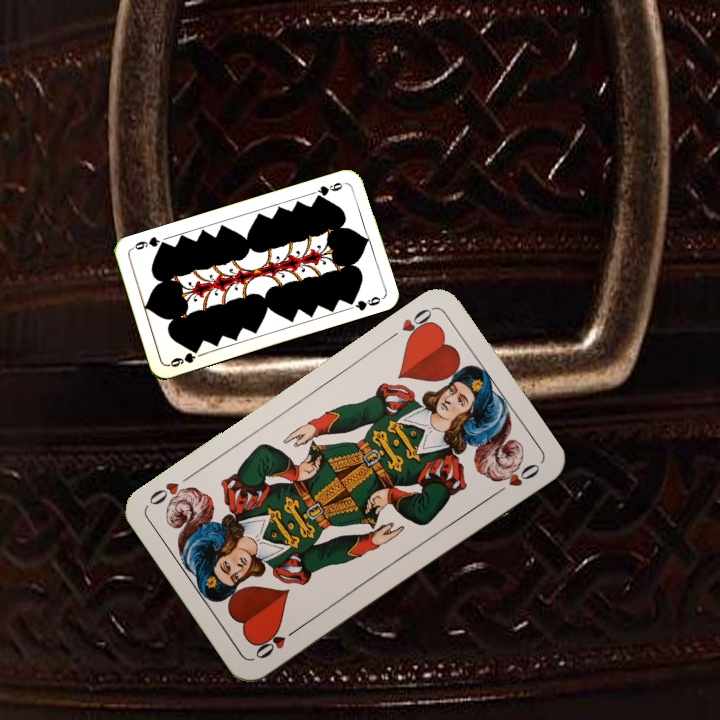G9: (164, 344, 202, 370), (308, 178, 348, 202)
HO: (384, 304, 438, 345), (251, 623, 303, 662)
